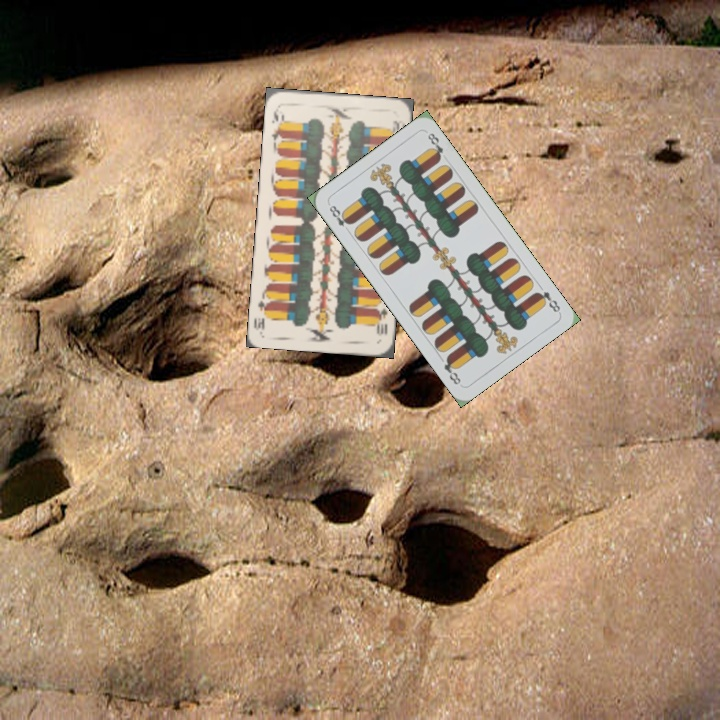E10: (267, 104, 287, 143), (372, 304, 390, 339)
E8: (325, 200, 354, 236), (531, 287, 563, 315)
